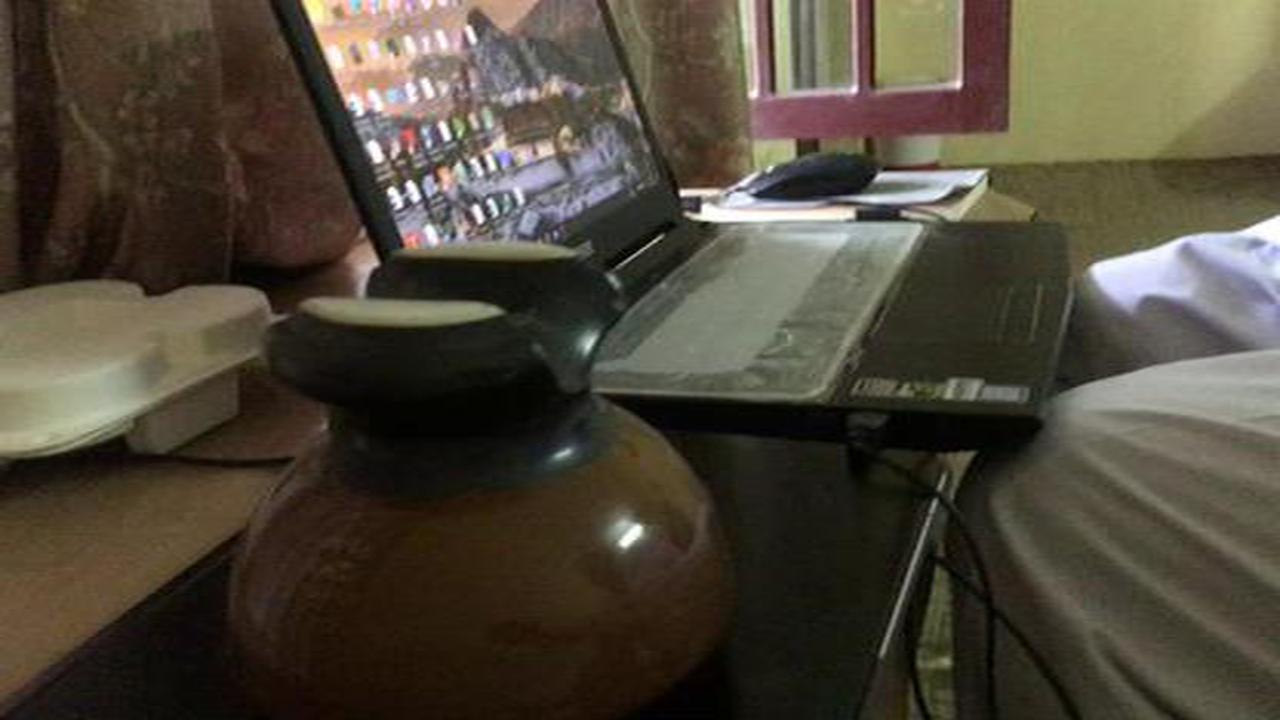insulator_pin: (176, 227, 761, 715)
